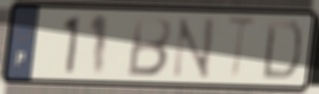1: (85, 11, 109, 80), (60, 14, 85, 76)
B: (124, 13, 175, 79)
D: (259, 17, 305, 83)
N: (169, 15, 218, 81)
T: (224, 14, 261, 85)
